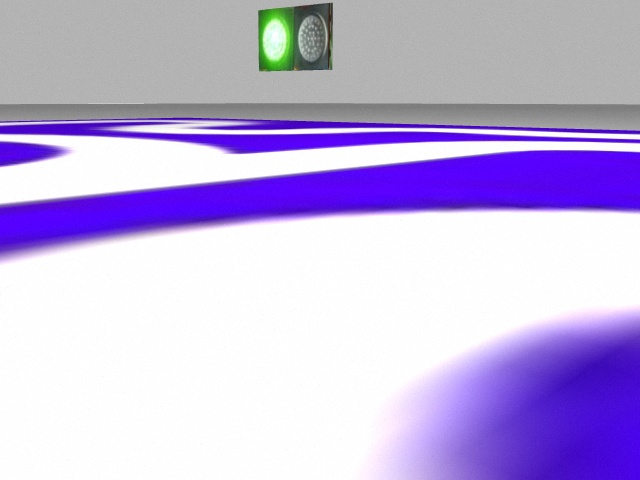green: (257, 9, 295, 69)
